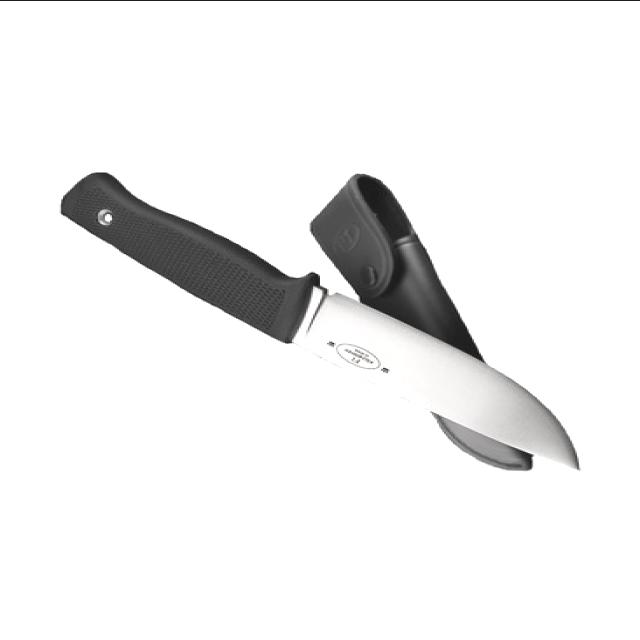knife: (262, 268, 586, 481)
